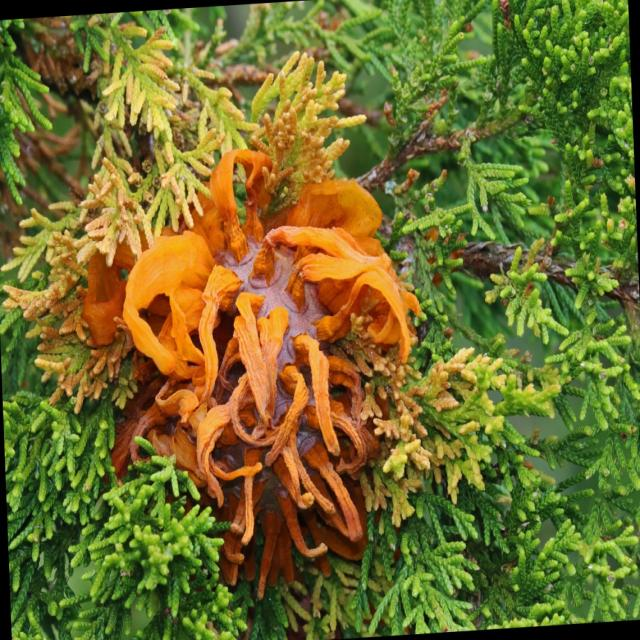Gymnosporangium_Rusts: (65, 108, 420, 584)
